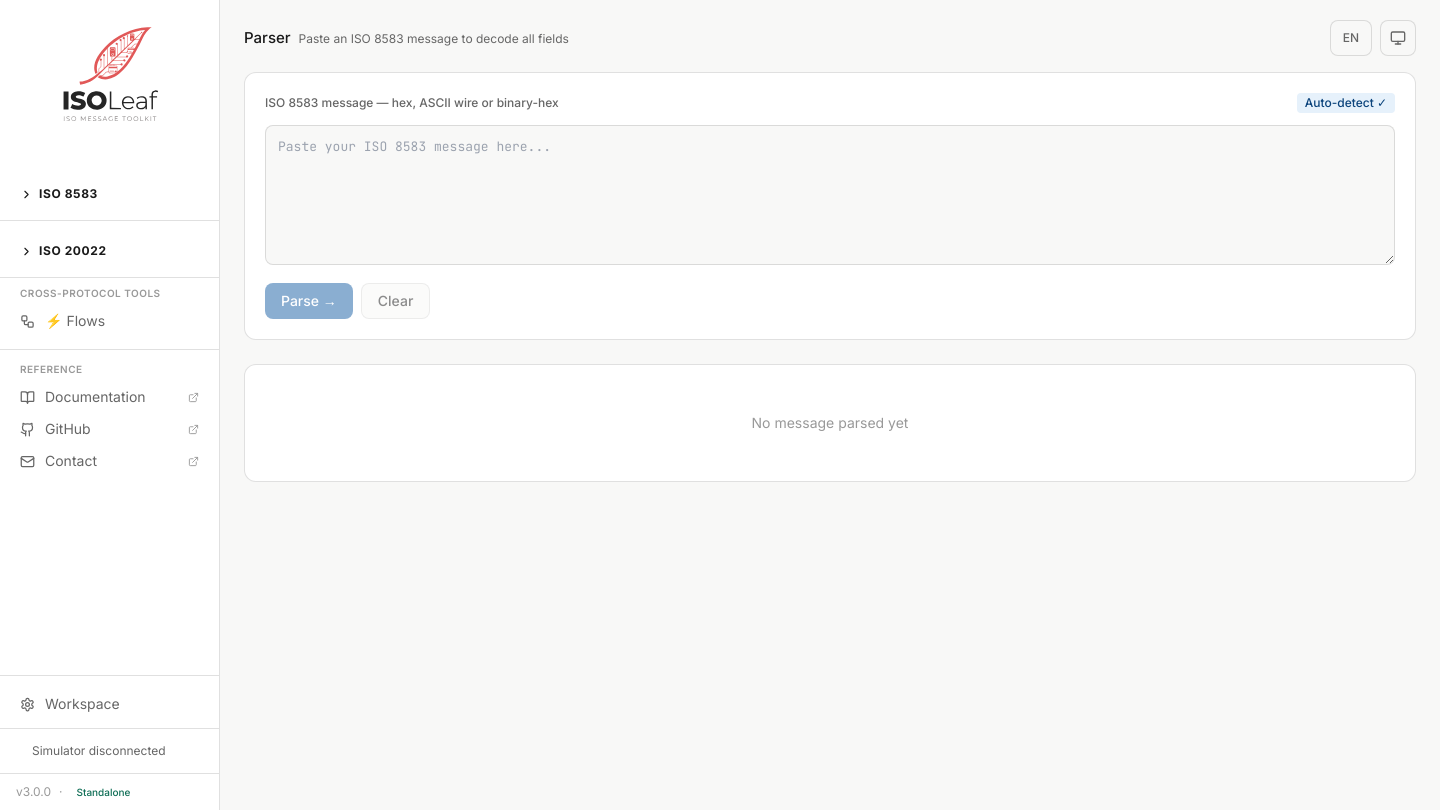
Scenario: Parser page › after parsing a valid message, fields table appears with PAN masked
Step 1. Type "020072300000000000001634567890123456780600000000000001000605123000000006123000" into the text box with placeholder "Paste your ISO 8583 message here..." → (830, 195), box x1=265 y1=125 x2=1395 y2=265
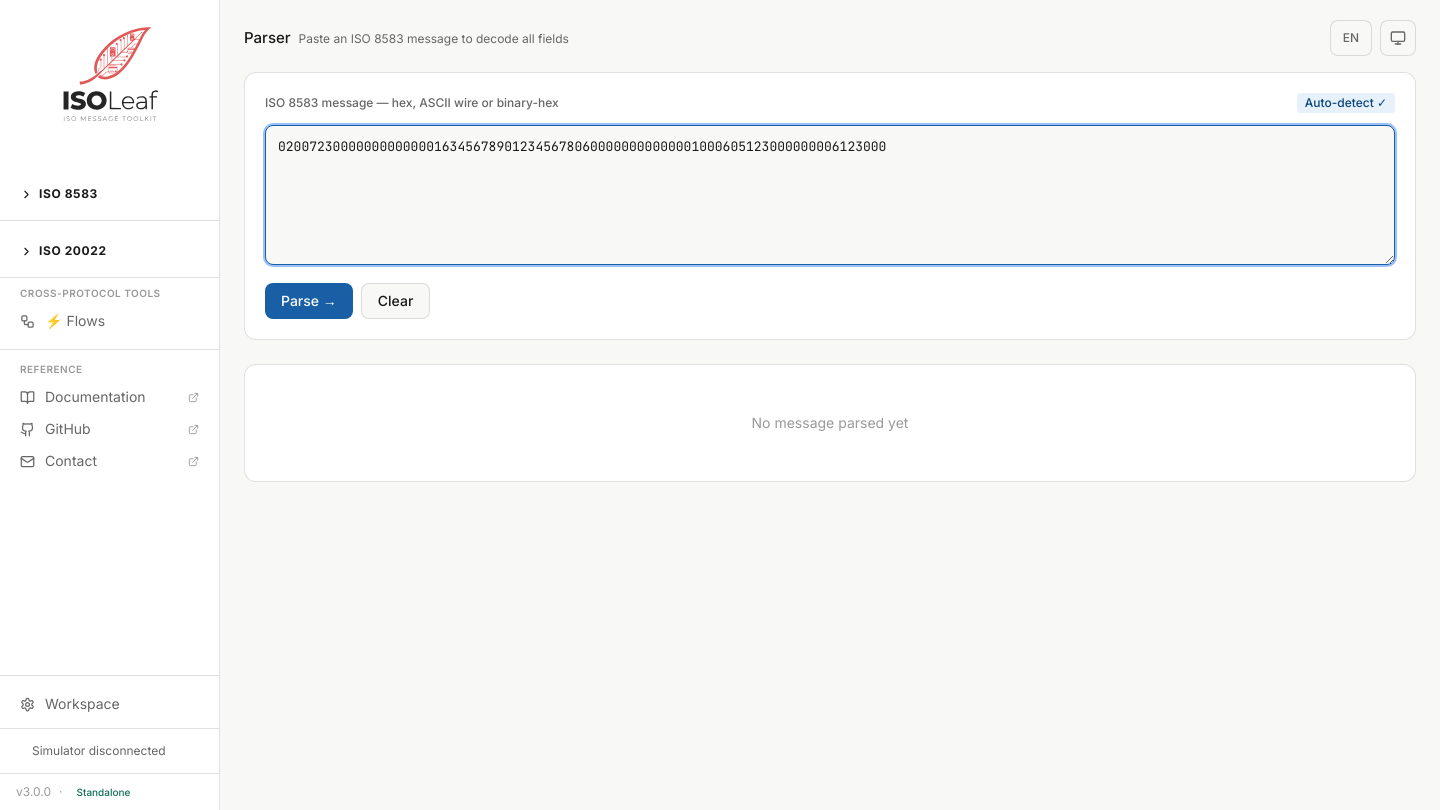
Step 2. Click the button "Parse →" → (309, 301), box x1=265 y1=283 x2=353 y2=319
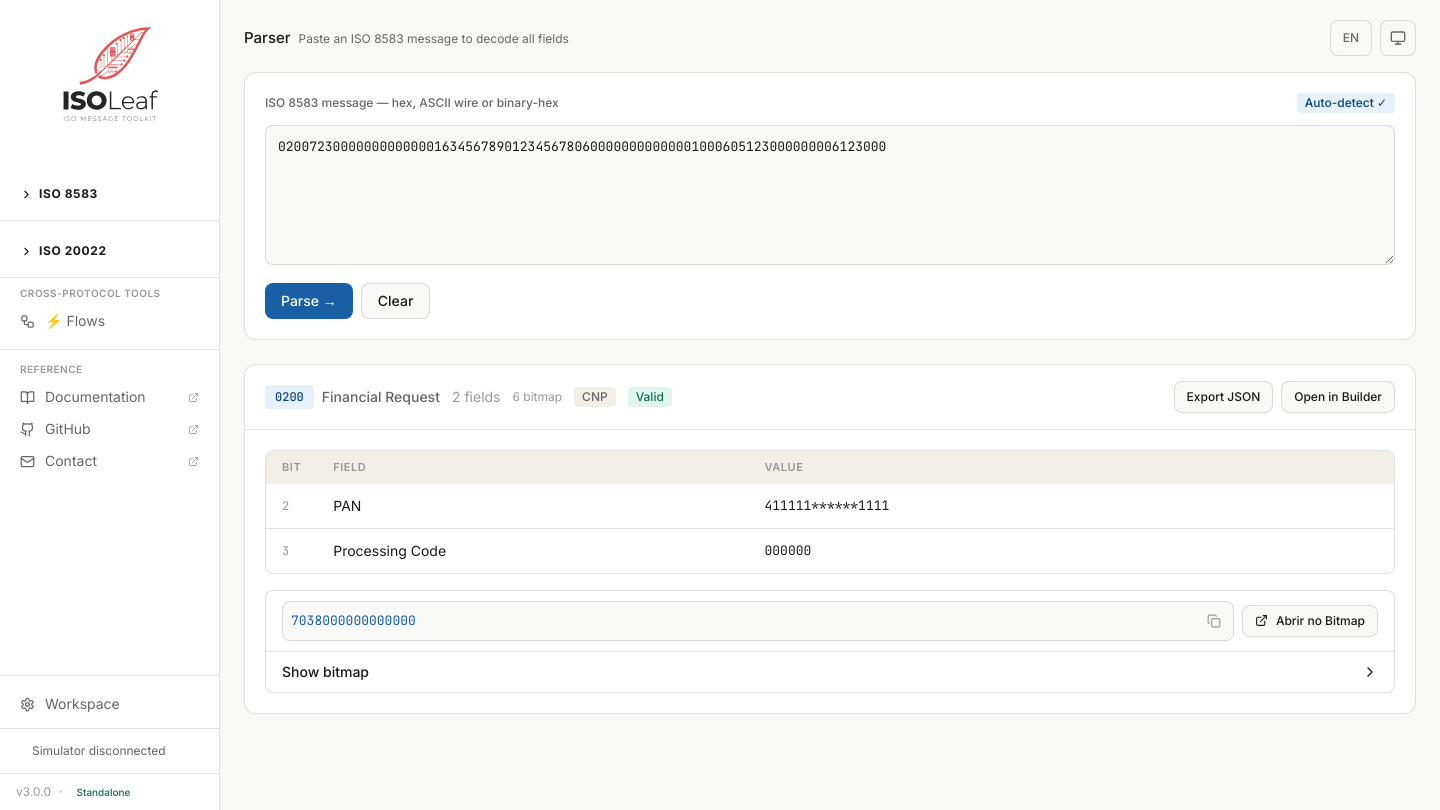
Result: the text "Financial Request" is shown at x1=322 y1=387 x2=440 y2=407
Result: the text "411111******1111" is shown at x1=764 y1=497 x2=889 y2=514
